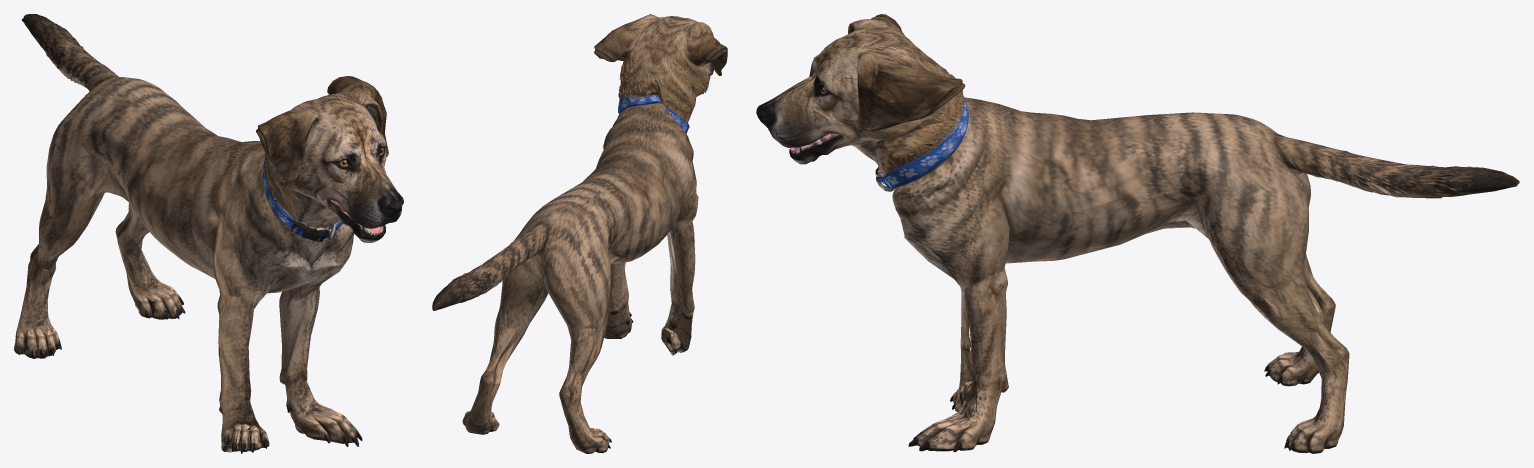
Rendered from dax_mesh.glb.
3 views of the same model, side by side, from view 1: azimuth 30°, elevation 25°; view 2: azimuth 150°, elevation 25°; view 3: azimuth 270°, elevation 25° (orthographic). The views are drawn at different scales.
Visible parts, largest first — view 1: geometry_0; view 2: geometry_0; view 3: geometry_0.
Part boxes in pixels (x1,y1,x2,y2): geometry_0: (14,14,403,453); geometry_0: (432,14,727,453); geometry_0: (756,14,1519,453).
Bounding box in the file's own units: 1.45 × 2.8 × 4.91.
Materials: 1 (1 with a texture image).
